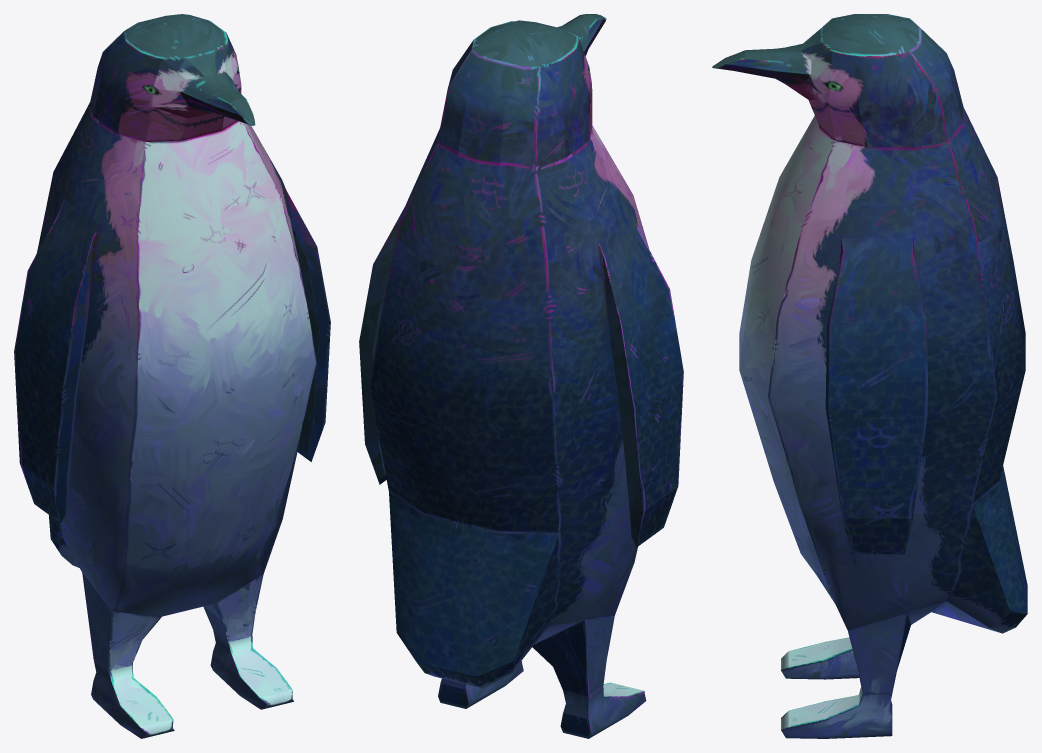
Rendered from Penguin.fbx.
The picture shows the model from 3 angles, left to right: view 1: azimuth 30°, elevation 25°; view 2: azimuth 150°, elevation 25°; view 3: azimuth 270°, elevation 25°; orthographic projection. The views are drawn at different scales.
Visible parts, largest first — view 1: pCube6; view 2: pCube6; view 3: pCube6.
Part boxes in pixels (left/top/right/bottom): pCube6: left=14, top=14, right=330, bottom=738; pCube6: left=359, top=14, right=683, bottom=738; pCube6: left=712, top=14, right=1027, bottom=738.
Size of the model in its own units: 1.29 by 3.03 by 1.28.
1 material, 1 textured.
